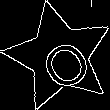O_NW: (26, 24, 92, 89)
